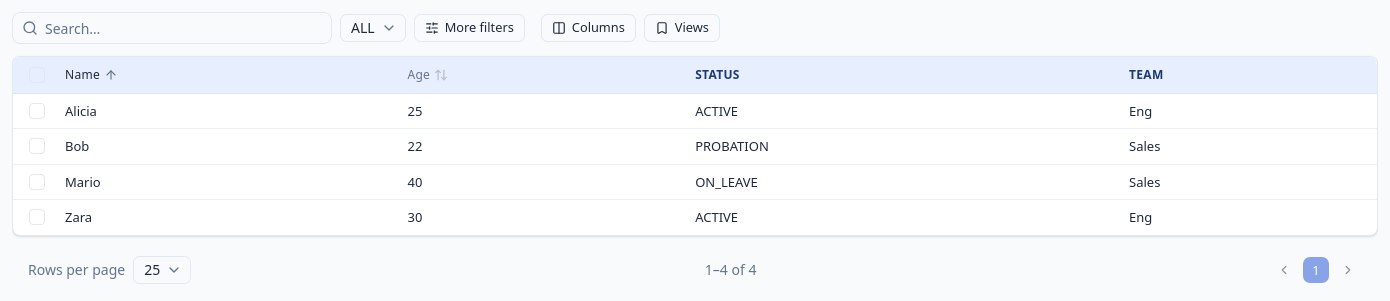
Test: HrisDataTable › matches search text against joined fields, not just one
The width and height of the screenshot is (1390, 301).
Type "sales" into the search field named "Search table". click: (172, 28)
box: [12,12,332,44]
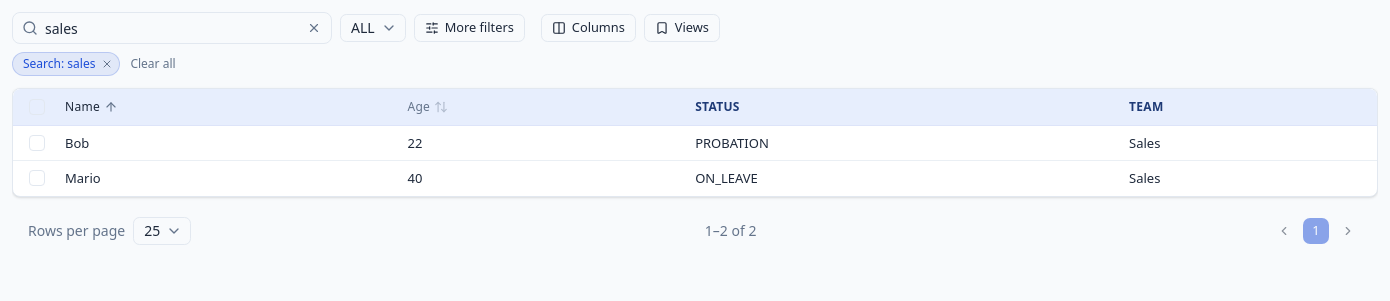
expect the text "Mario" is shown: met, box [53,161,396,196]
expect the text "Zara" is gone: met
